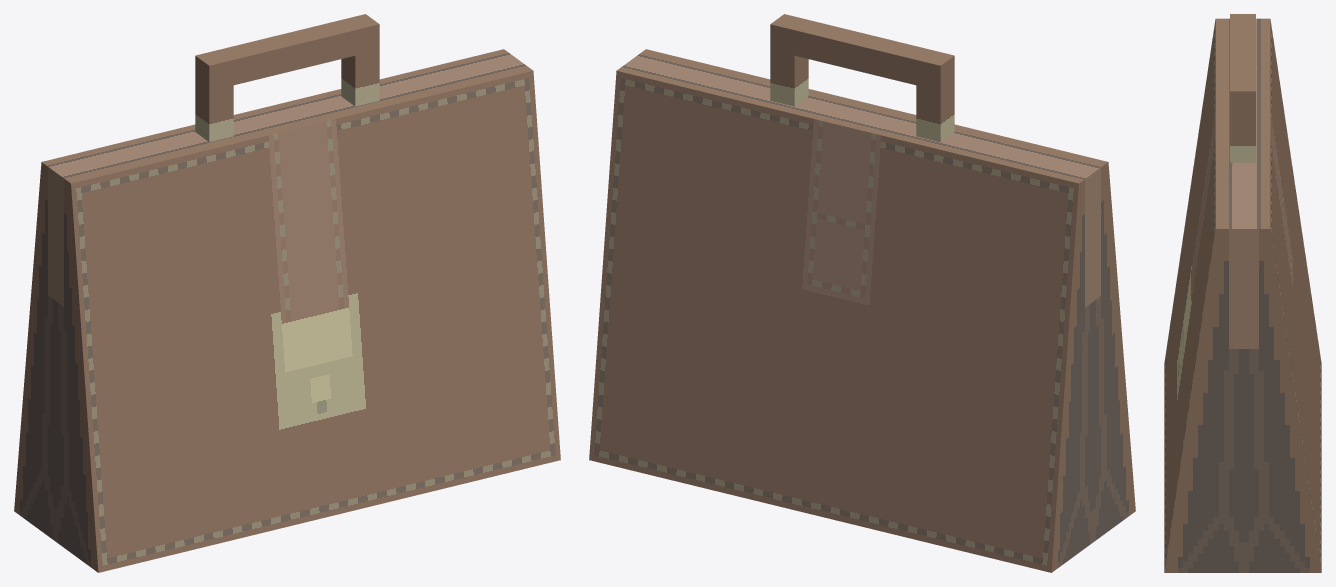
Rendered from Playground3.glb.
3 renders of one model, left to right at view 1: azimuth 30°, elevation 25°; view 2: azimuth 150°, elevation 25°; view 3: azimuth 270°, elevation 25°, orthographic. The views are drawn at different scales.
Parts seen in each view (by area): view 1: part_0; view 2: part_0; view 3: part_0.
Part boxes in pixels (bbox=[...]): part_0: bbox=[14, 14, 560, 572]; part_0: bbox=[589, 14, 1135, 572]; part_0: bbox=[1164, 14, 1321, 572].
Bounding box in the file's own units: 0.38 × 0.35 × 0.12.
1 material, 1 textured.
